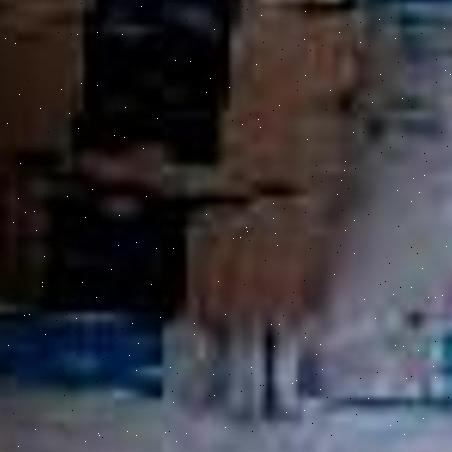Amazon: (0, 0, 351, 280)
